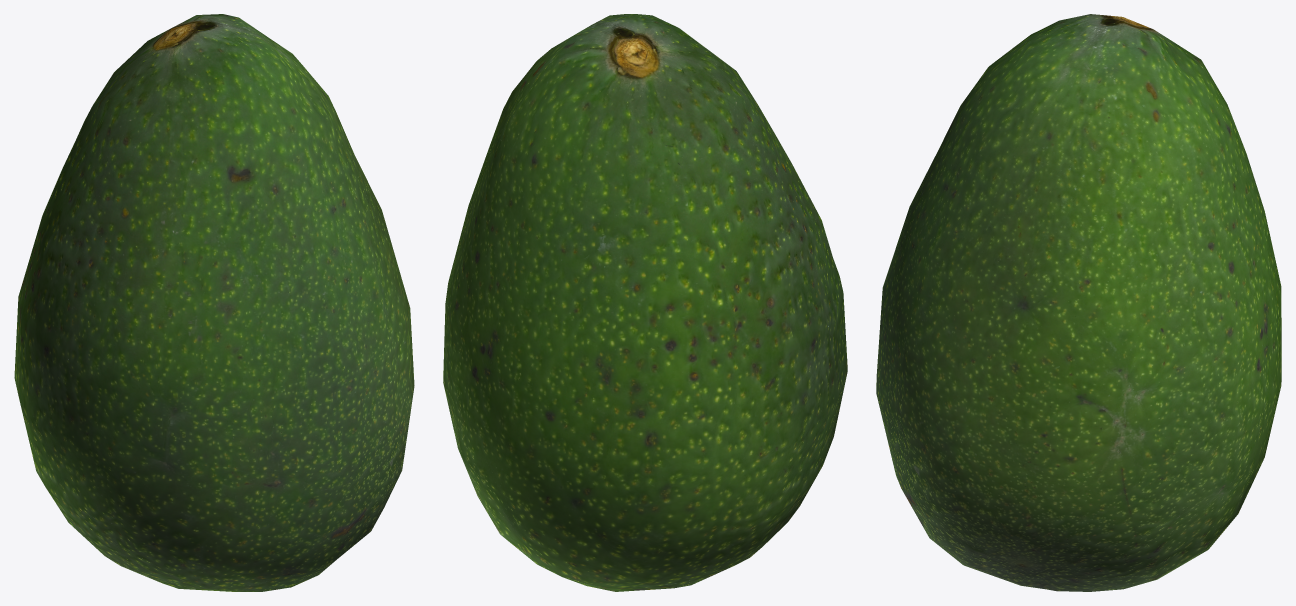
File: AVOCADO BUO.fbx
3 renders of one model, left to right at view 1: azimuth 30°, elevation 25°; view 2: azimuth 150°, elevation 25°; view 3: azimuth 270°, elevation 25°, orthographic. The views are drawn at different scales.
Visible parts, largest first — view 1: avacado_LP_Mesh.001; view 2: avacado_LP_Mesh.001; view 3: avacado_LP_Mesh.001.
Boxes of the visible parts, <box> form: avacado_LP_Mesh.001: <box>14,14,414,591</box>; avacado_LP_Mesh.001: <box>443,14,847,591</box>; avacado_LP_Mesh.001: <box>876,14,1281,591</box>.
Size of the model in its own units: 207 by 316 by 209.
Materials: 1 (1 with a texture image).
